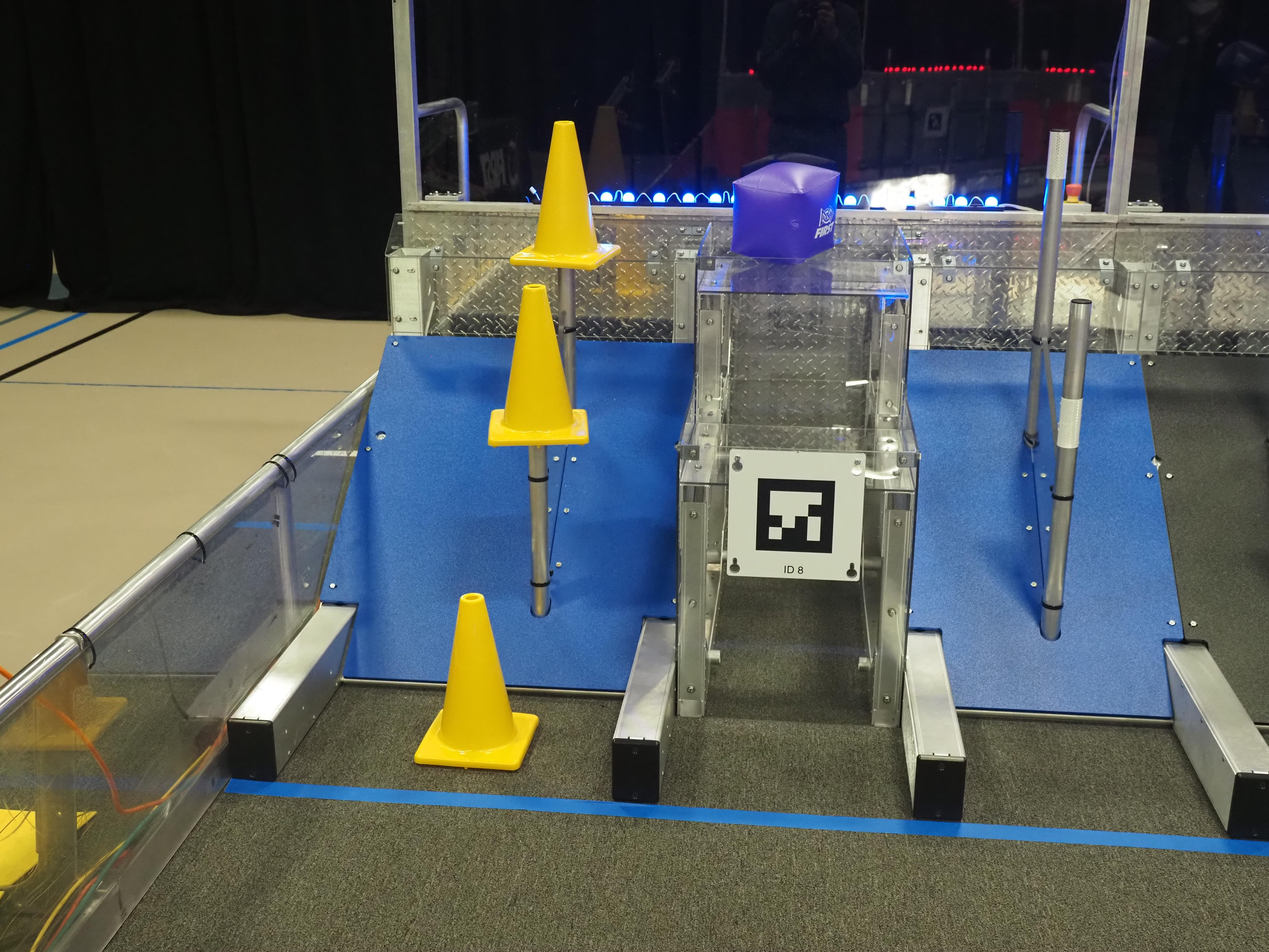cone: (408, 585, 543, 780), (480, 279, 596, 458), (505, 118, 627, 275)
cube: (725, 158, 851, 266)
